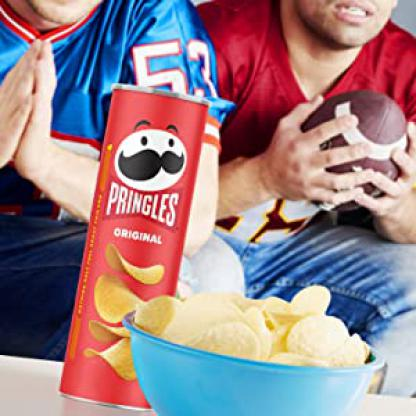potatochip: (55, 83, 208, 415)
